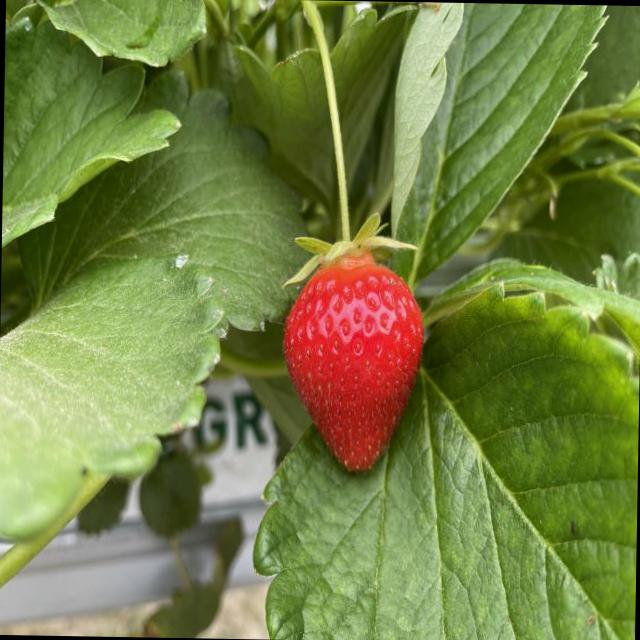stem: (286, 0, 415, 285)
strawberryR: (283, 252, 424, 471)
